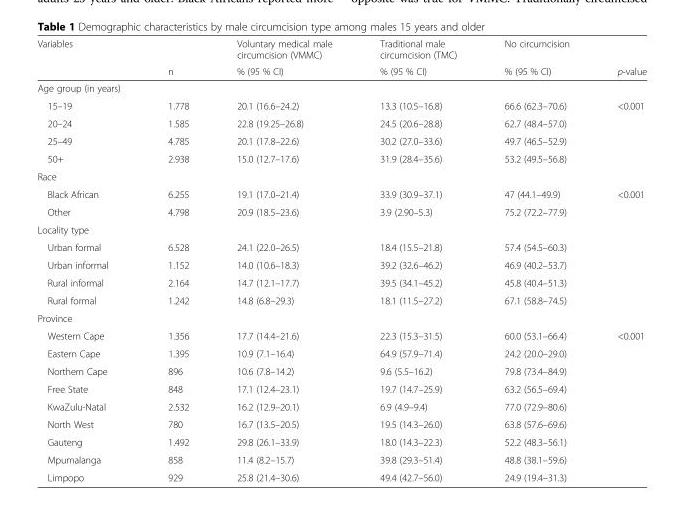table: (36, 37, 646, 482)
table column: (212, 37, 355, 482), (355, 37, 479, 482), (479, 37, 592, 482), (36, 37, 143, 482), (143, 37, 212, 482), (592, 37, 646, 482)
table column header: (36, 37, 646, 79)
table projected row header: (36, 167, 646, 185), (36, 220, 646, 238), (36, 308, 646, 326), (36, 79, 646, 96)
table row: (36, 37, 646, 62), (36, 96, 646, 114), (36, 131, 646, 149), (36, 149, 646, 167), (36, 167, 646, 185), (36, 202, 646, 220), (36, 220, 646, 238), (36, 255, 646, 273), (36, 273, 646, 291), (36, 308, 646, 326), (36, 326, 646, 344), (36, 344, 646, 362), (36, 379, 646, 397), (36, 397, 646, 415), (36, 432, 646, 450), (36, 450, 646, 468), (36, 62, 646, 79), (36, 79, 646, 96), (36, 114, 646, 131), (36, 185, 646, 202), (36, 238, 646, 255), (36, 291, 646, 308), (36, 362, 646, 379), (36, 415, 646, 432), (36, 468, 646, 482)
table spanning cell: (212, 37, 355, 79), (355, 37, 479, 79), (479, 37, 592, 79), (36, 37, 143, 79), (143, 37, 212, 79), (592, 37, 646, 79)
